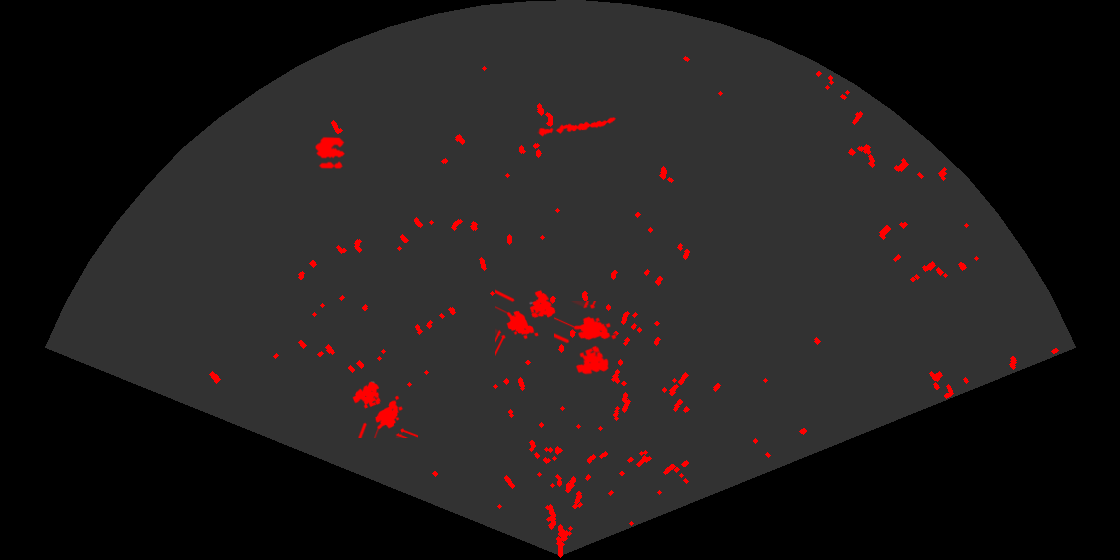ball: (314, 135, 346, 170)
cage: (554, 301, 618, 376), (495, 288, 557, 356), (351, 380, 418, 438)
chain: (537, 116, 618, 138)
